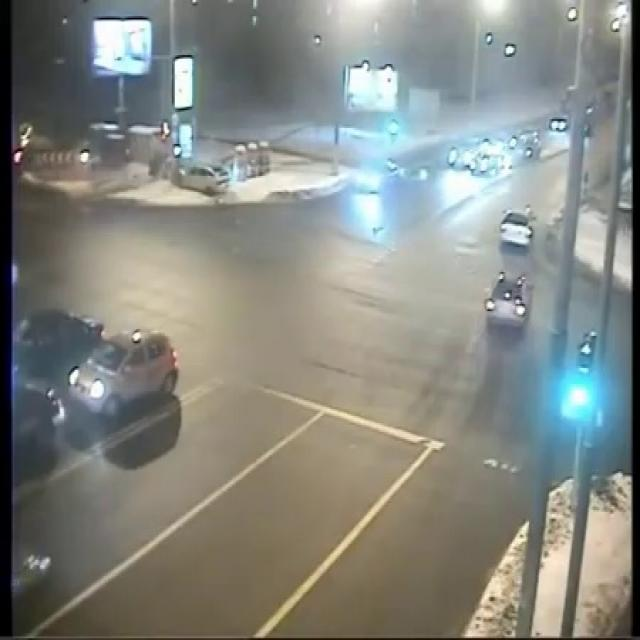accident: (153, 147, 237, 198)
